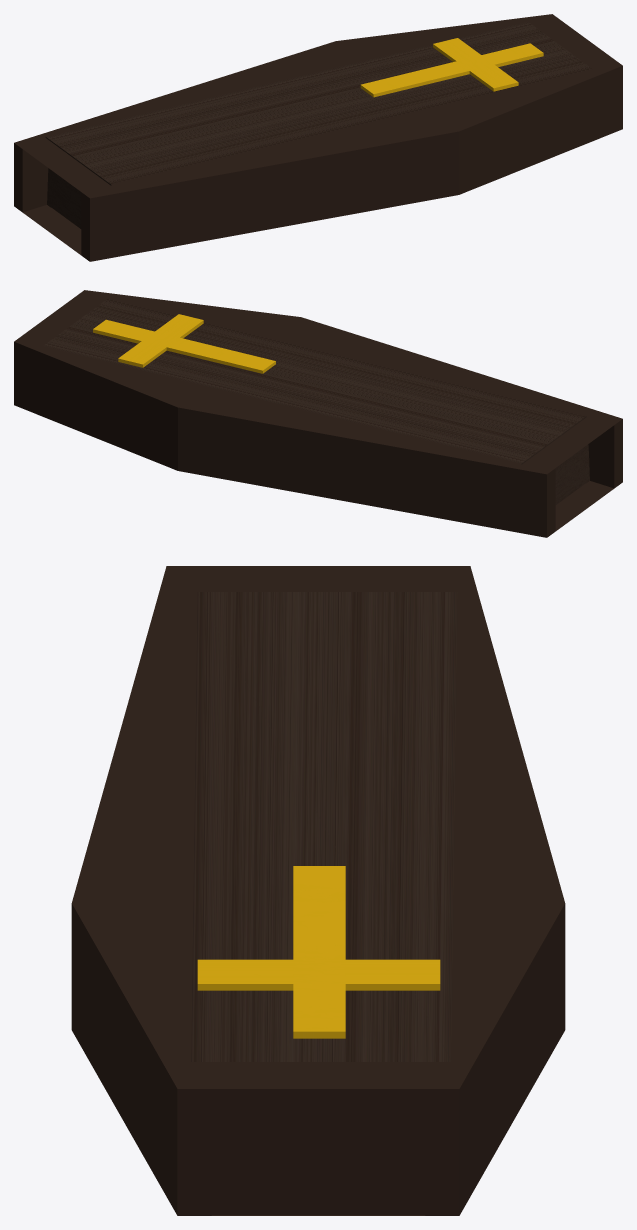
The model's file is tabut.fbx.
3 renders of one model, top to bottom at view 1: azimuth 30°, elevation 25°; view 2: azimuth 150°, elevation 25°; view 3: azimuth 270°, elevation 25°, orthographic. The views are drawn at different scales.
Visible parts, largest first — view 1: Plane, Plane.001, Plane.002; view 2: Plane, Plane.001, Plane.002; view 3: Plane, Plane.001, Plane.002.
Part boxes in pixels (bbox=[...]): Plane: bbox=[14, 14, 622, 261]; Plane.001: bbox=[45, 21, 592, 228]; Plane.002: bbox=[360, 38, 543, 97]; Plane: bbox=[14, 290, 622, 537]; Plane.001: bbox=[43, 298, 589, 504]; Plane.002: bbox=[93, 314, 275, 373]; Plane: bbox=[71, 566, 565, 1215]; Plane.001: bbox=[190, 592, 458, 1061]; Plane.002: bbox=[197, 866, 440, 1038].
Bounding box in the file's own units: 514 × 63.78 × 205.
